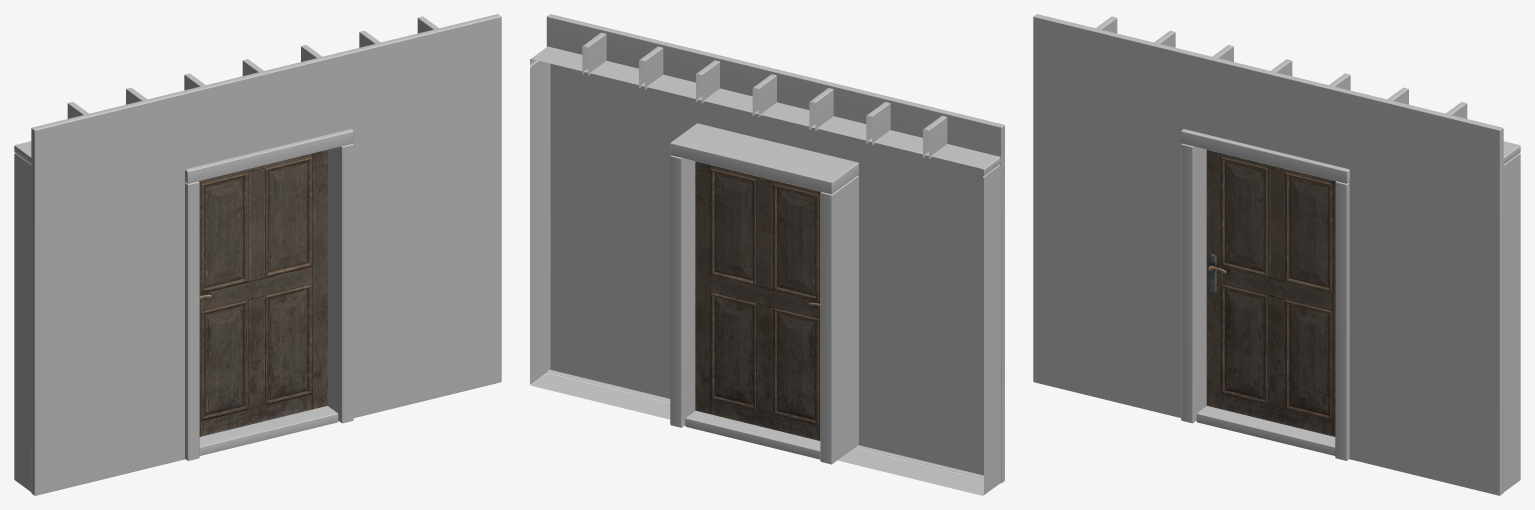
Rendered from Wall_02_ext_doors.fbx.
3 views of the same model, side by side, from view 1: azimuth 30°, elevation 25°; view 2: azimuth 150°, elevation 25°; view 3: azimuth 330°, elevation 25° (orthographic). The views are drawn at different scales.
Parts seen in each view (by area): view 1: Wall02_ext_doors, Doors1; view 2: Wall02_ext_doors, Doors1; view 3: Wall02_ext_doors, Doors1.
Part boxes in pixels (<box>): Wall02_ext_doors: <box>14,14,501,495</box>; Doors1: <box>199,150,327,436</box>; Wall02_ext_doors: <box>530,14,1004,495</box>; Doors1: <box>695,161,820,440</box>; Wall02_ext_doors: <box>1033,14,1520,495</box>; Doors1: <box>1206,150,1335,436</box>.
Bounding box in the file's own units: 401 × 301 × 44.92.
